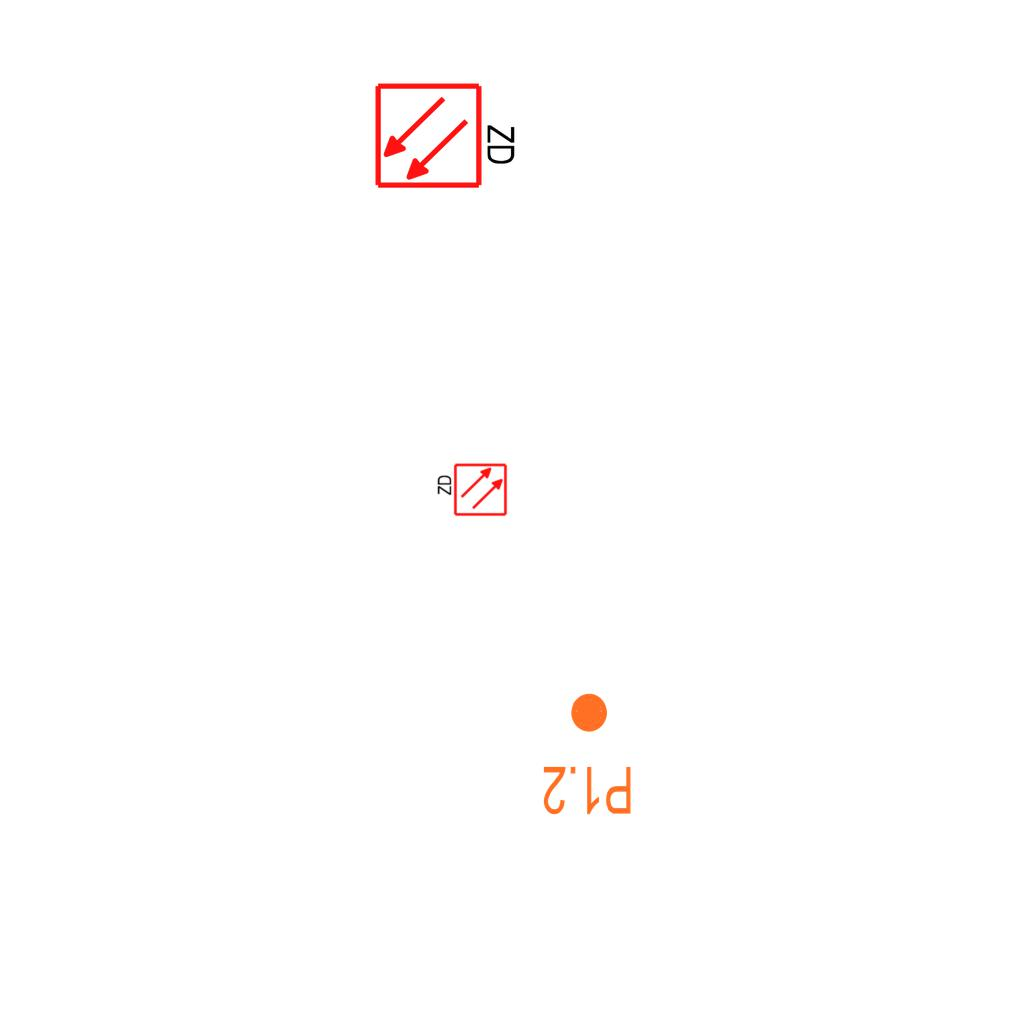Downlight_LED_Einbauleuchten_Flur: (541, 690, 634, 818)
ZD_Melder_in_Zwischendecke_mit_Revisionsoeffnung_mind_40_x_40_cm: (373, 77, 522, 191), (434, 462, 508, 519)
